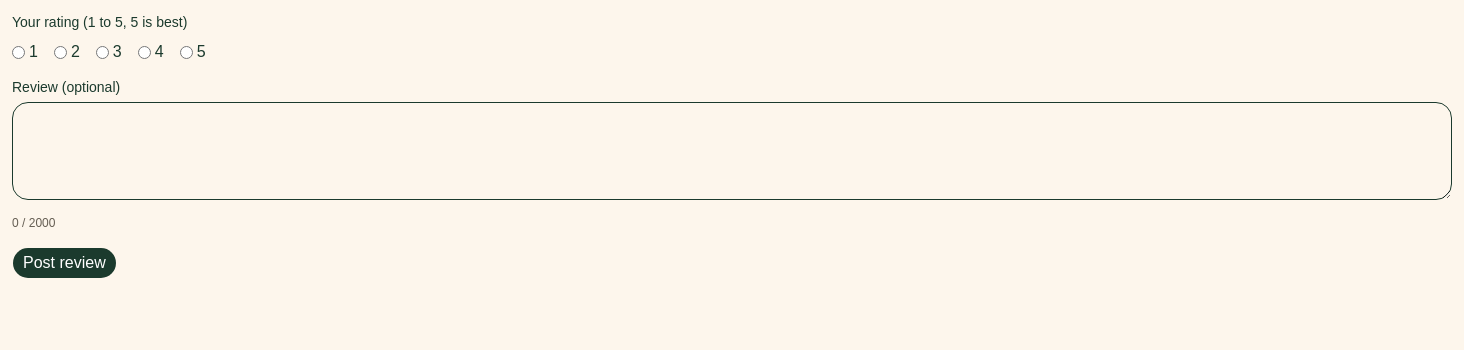
Test: ReviewForm › shows the backend message and keeps what was typed when the request fails
Click the radio button labelled "4" at (144, 52), box [138,46,151,58]
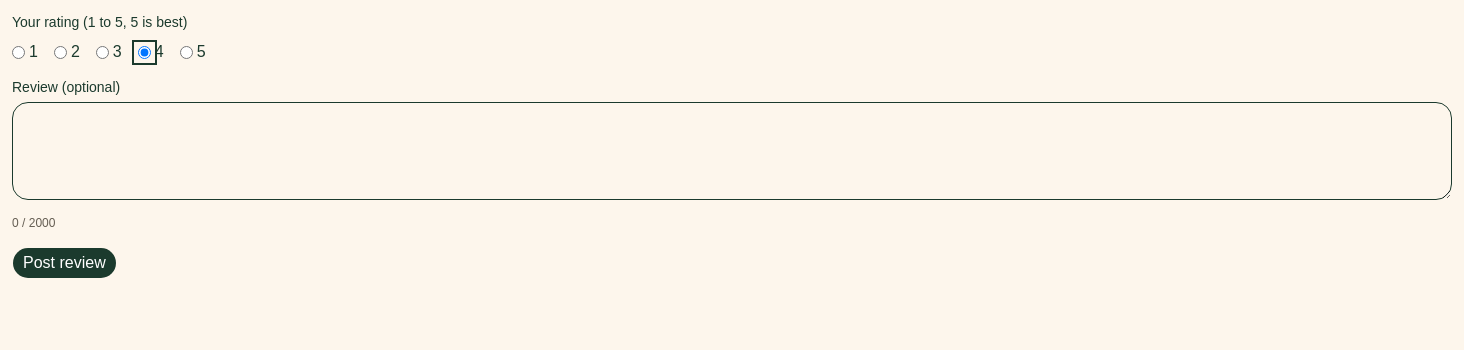
Type "Nice" into the text box labelled "Review (optional)" at (732, 151), box [12,102,1452,200]
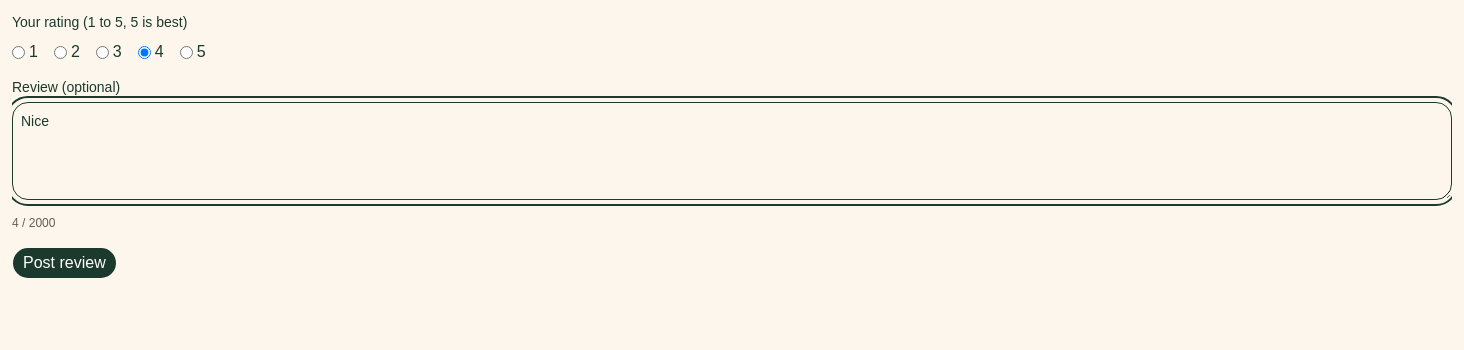
Click the button "Post review" at (64, 263), box [12,247,117,279]
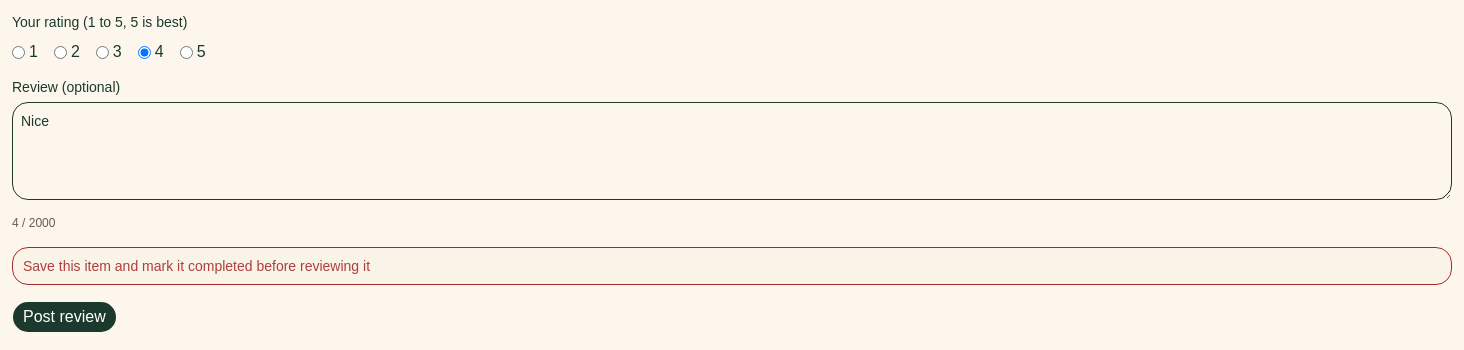
Check: the button "Post review" is enabled, box [12,301,117,333]
Check: the radio button labelled "4" is checked, box [138,46,151,58]
Check: the text "Save this item and mark it completed before reviewing it" is shown, box [23,258,370,274]
